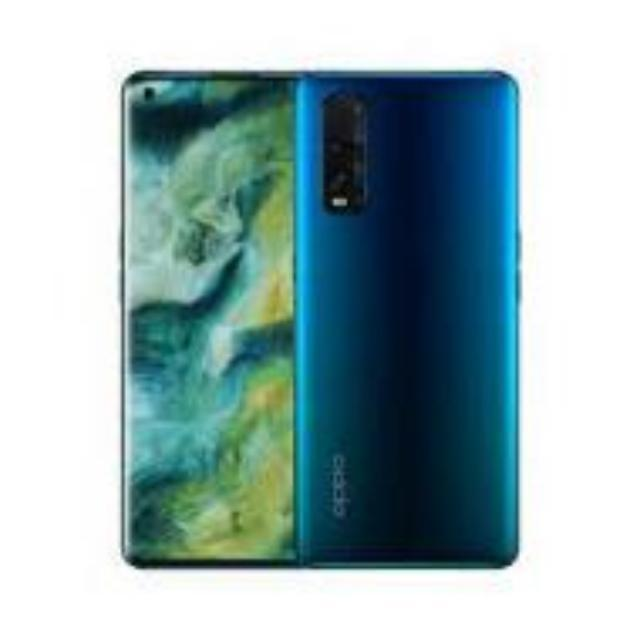phone: (119, 73, 519, 559)
